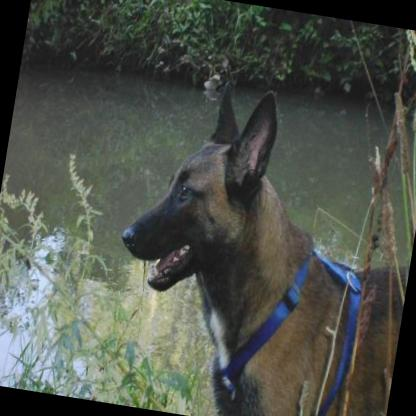malinois: (95, 72, 416, 416)
